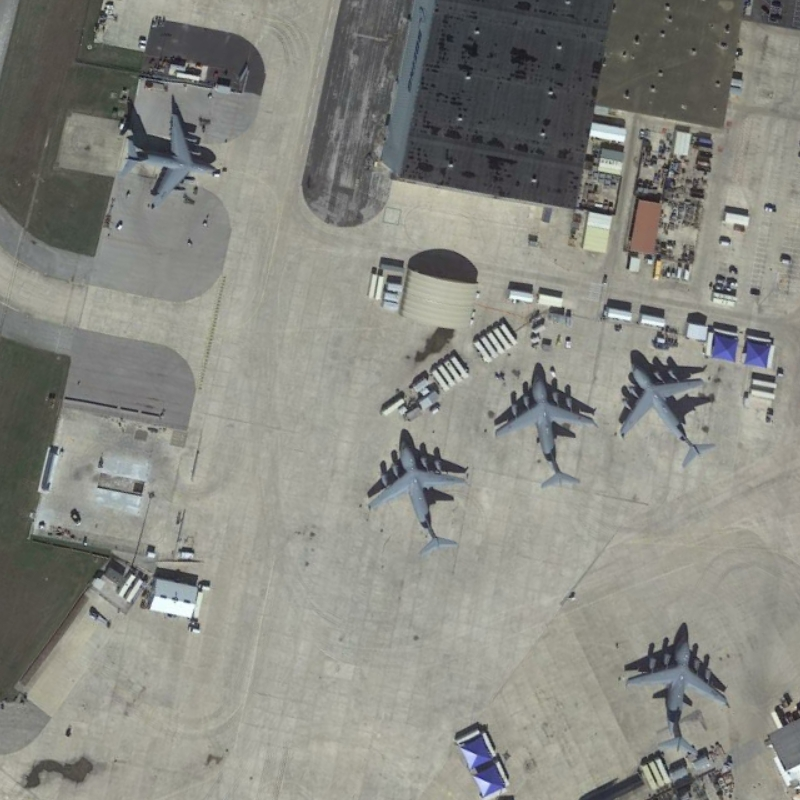A3: (618, 616, 735, 763), (359, 428, 476, 559), (488, 363, 599, 493), (611, 349, 722, 473), (119, 100, 228, 211)
